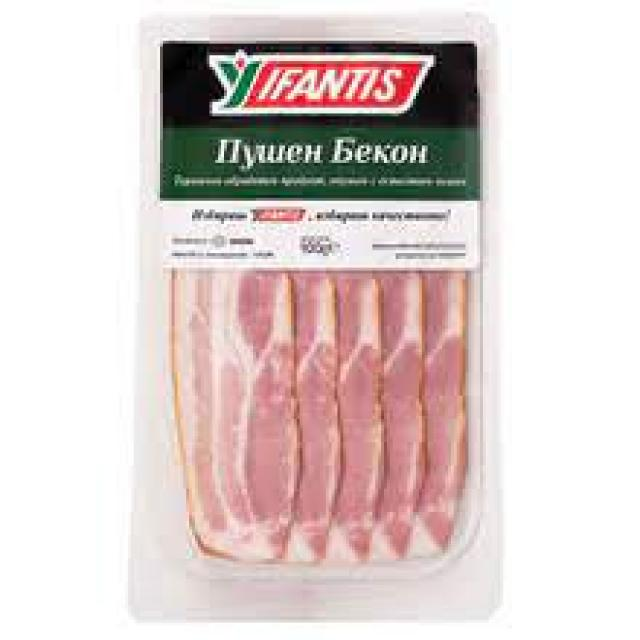bacon: (168, 272, 466, 567)
